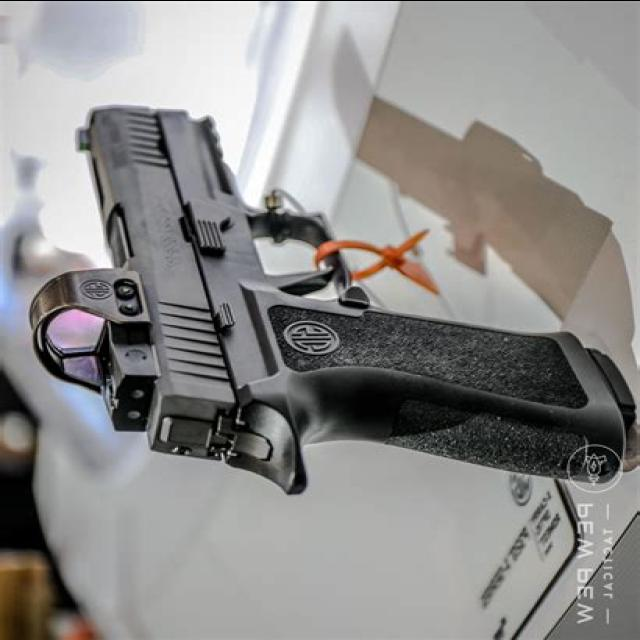weapons: (22, 85, 640, 512)
